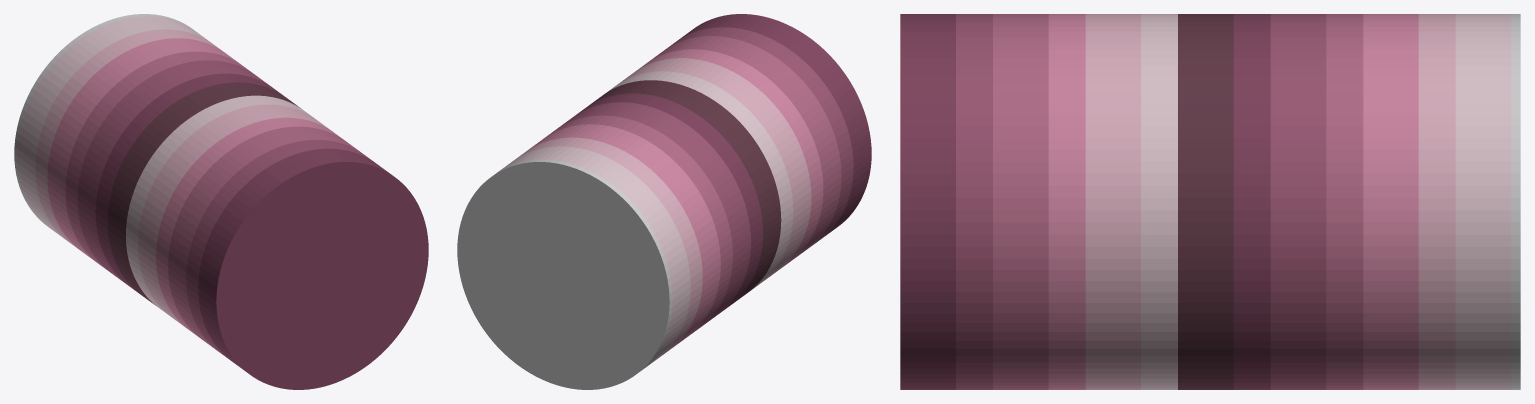
Rendered from cake_8in_layers7.glb.
3 views of the same model, side by side, from view 1: azimuth 30°, elevation 25°; view 2: azimuth 150°, elevation 25°; view 3: azimuth 270°, elevation 25° (orthographic). The views are drawn at different scales.
Visible parts, largest first — view 1: geometry_12, geometry_0, geometry_2, geometry_4, geometry_8, geometry_10, geometry_6, geometry_1, geometry_3, geometry_7, geometry_9, geometry_5 (+2 smaller); view 2: geometry_13, geometry_12, geometry_0, geometry_8, geometry_4, geometry_2, geometry_10, geometry_6, geometry_3, geometry_9, geometry_11, geometry_1 (+2 smaller); view 3: geometry_0, geometry_4, geometry_2, geometry_6, geometry_8, geometry_10, geometry_12, geometry_1, geometry_3, geometry_5, geometry_9, geometry_7 (+2 smaller).
Part boxes in pixels (<box>): geometry_12: <box>198,148,428,389</box>; geometry_0: <box>17,16,209,238</box>; geometry_2: <box>47,38,239,261</box>; geometry_4: <box>77,60,269,283</box>; geometry_8: <box>138,104,329,327</box>; geometry_10: <box>168,126,359,349</box>; geometry_6: <box>107,82,299,305</box>; geometry_1: <box>35,29,221,247</box>; geometry_3: <box>65,51,251,269</box>; geometry_7: <box>126,95,311,314</box>; geometry_9: <box>156,117,342,336</box>; geometry_5: <box>95,73,281,292</box>; geometry_13: <box>457,159,672,389</box>; geometry_12: <box>679,14,871,236</box>; geometry_0: <box>497,146,690,368</box>; geometry_8: <box>619,58,811,280</box>; geometry_4: <box>558,102,750,325</box>; geometry_2: <box>528,124,720,347</box>; geometry_10: <box>649,36,841,258</box>; geometry_6: <box>589,80,781,303</box>; geometry_3: <box>546,115,732,333</box>; geometry_9: <box>637,49,823,267</box>; geometry_11: <box>668,27,853,245</box>; geometry_1: <box>516,137,702,355</box>; geometry_0: <box>1455,14,1511,389</box>; geometry_4: <box>1270,14,1326,389</box>; geometry_2: <box>1363,14,1418,389</box>; geometry_6: <box>1178,14,1233,389</box>; geometry_8: <box>1085,14,1140,389</box>; geometry_10: <box>993,14,1048,389</box>; geometry_12: <box>900,14,955,389</box>; geometry_1: <box>1418,14,1455,389</box>; geometry_3: <box>1326,14,1363,389</box>; geometry_5: <box>1233,14,1270,389</box>; geometry_9: <box>1048,14,1085,389</box>; geometry_7: <box>1141,14,1177,389</box>.
Size of the model in its own units: 0.2032 by 0.2032 by 0.335.
